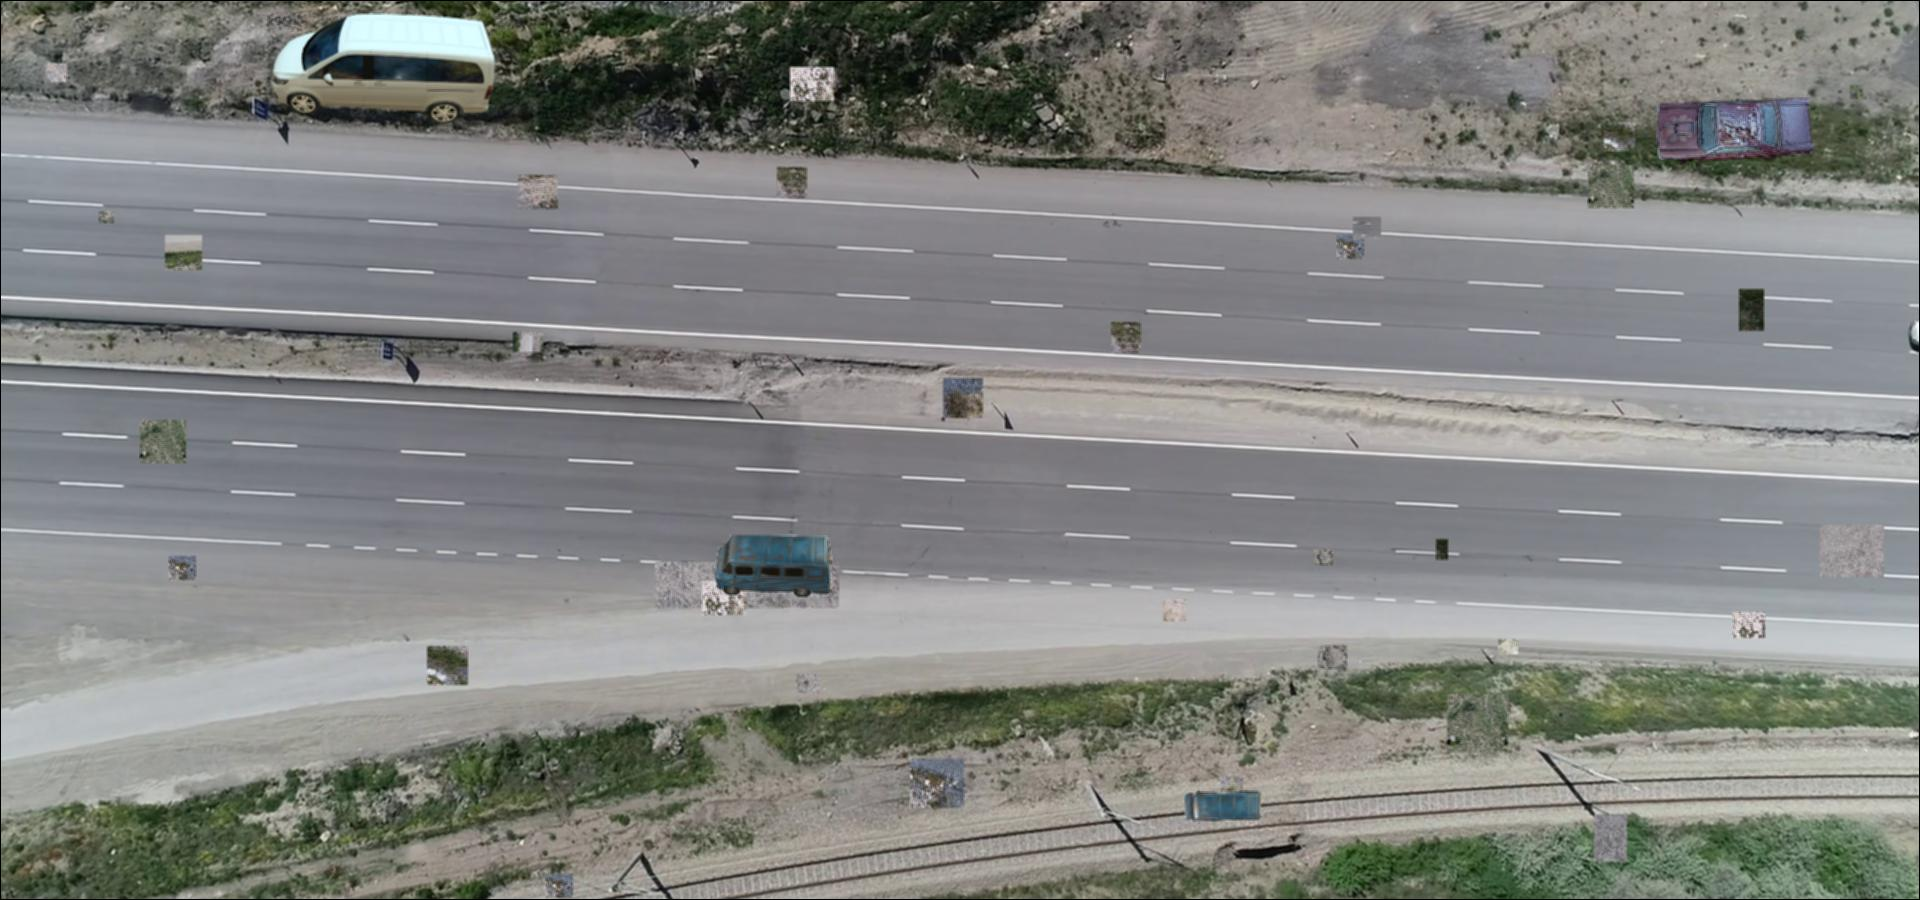arac: (268, 13, 506, 125), (1653, 96, 1813, 165), (715, 535, 831, 599), (1184, 790, 1262, 823)
